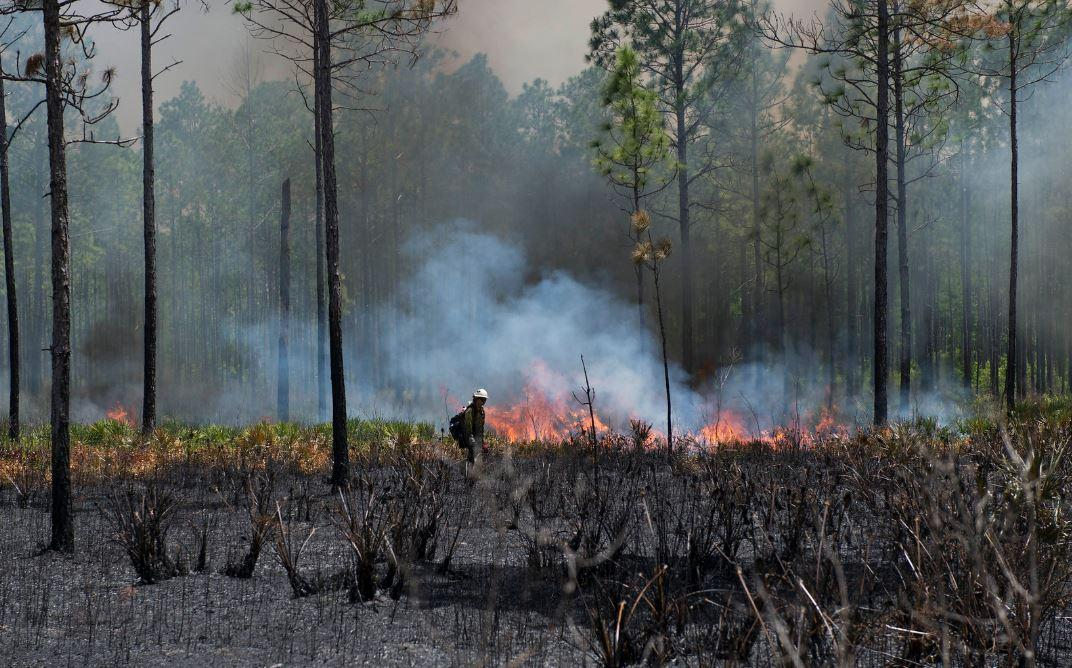Fire: (472, 358, 605, 441), (701, 403, 793, 449), (802, 404, 838, 438), (105, 400, 134, 424)
